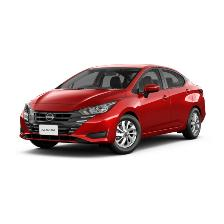NON-EV: (21, 65, 207, 156)
